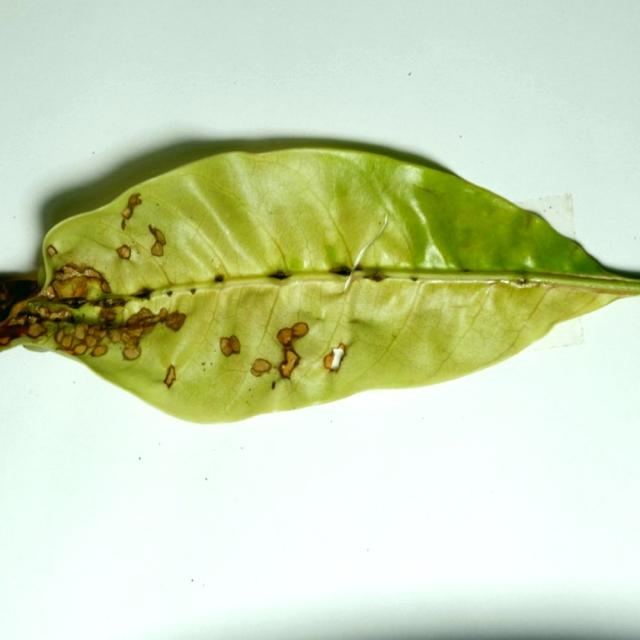Anthracnose: (6, 262, 182, 362), (252, 322, 310, 389), (2, 295, 72, 347), (115, 197, 167, 263), (48, 263, 110, 301), (1, 277, 39, 324), (0, 320, 40, 346), (276, 321, 309, 347), (120, 193, 142, 230), (323, 343, 346, 373), (33, 305, 72, 322), (51, 279, 73, 300), (250, 358, 272, 377), (55, 264, 82, 279), (133, 287, 160, 298), (83, 267, 103, 281), (0, 281, 11, 305), (40, 285, 57, 300), (367, 271, 389, 282), (330, 266, 354, 276), (116, 245, 131, 260), (129, 194, 142, 207), (46, 244, 58, 257), (0, 335, 11, 346), (214, 274, 225, 283), (516, 277, 528, 285), (121, 218, 127, 230), (189, 288, 197, 294), (271, 381, 276, 390)
Mango: (0, 136, 639, 428)
